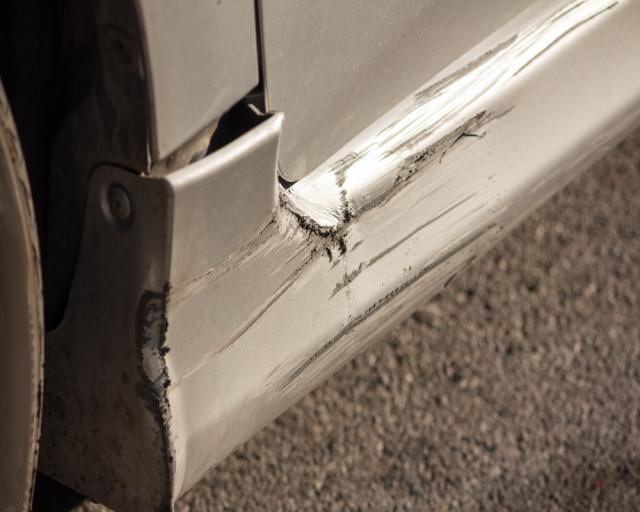scratch: (134, 0, 640, 459)
